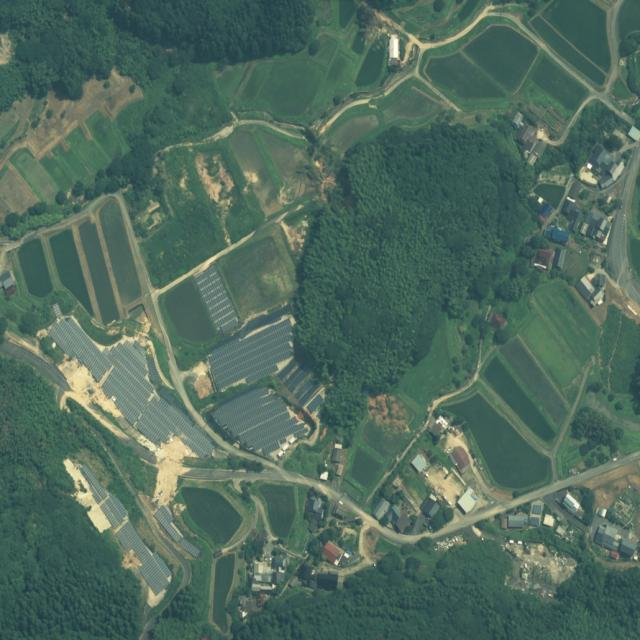landslide: (58, 358, 194, 506), (506, 542, 578, 602), (121, 551, 141, 570)
